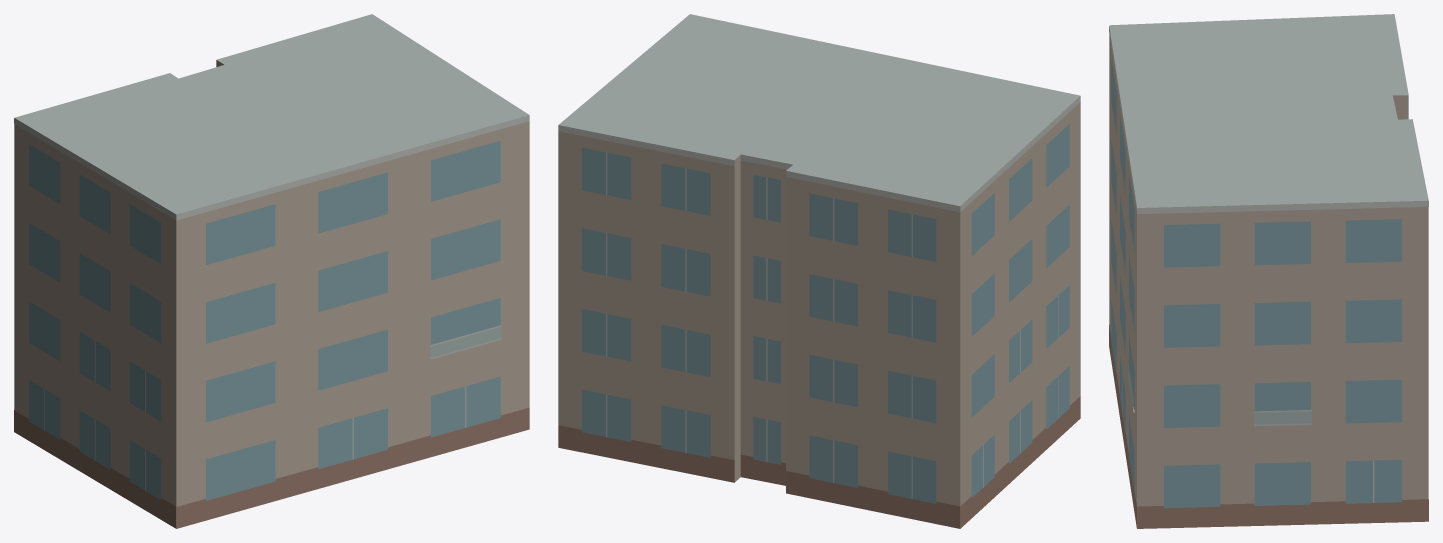
File: survey-upis-32731966.glb
3 renders of one model, left to right at view 1: azimuth 30°, elevation 25°; view 2: azimuth 150°, elevation 25°; view 3: azimuth 270°, elevation 25°, orthographic. The views are drawn at different scales.
Visible parts, largest first — view 1: survey-upis-32731966.tmp; view 2: survey-upis-32731966.tmp; view 3: survey-upis-32731966.tmp.
Part boxes in pixels (<box>): survey-upis-32731966.tmp: <box>14,14,529,528</box>; survey-upis-32731966.tmp: <box>558,14,1080,528</box>; survey-upis-32731966.tmp: <box>1109,14,1428,528</box>.
Bounding box in the file's own units: 16.61 × 12.8 × 11.57.
